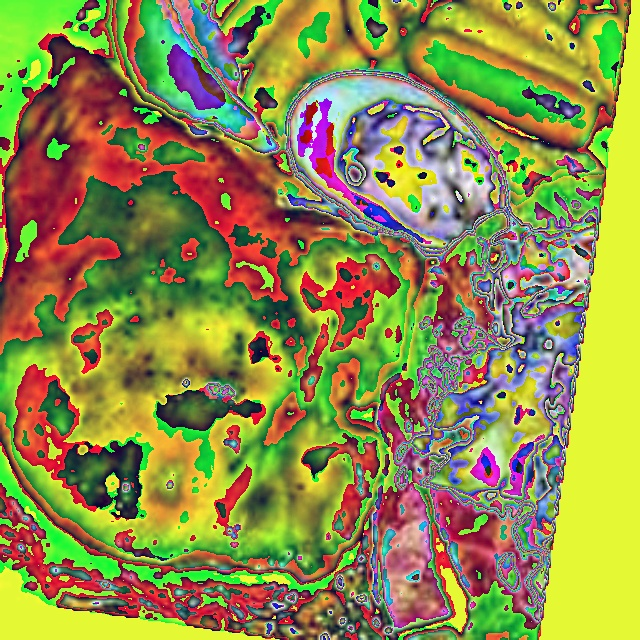background: (0, 0, 630, 640)
